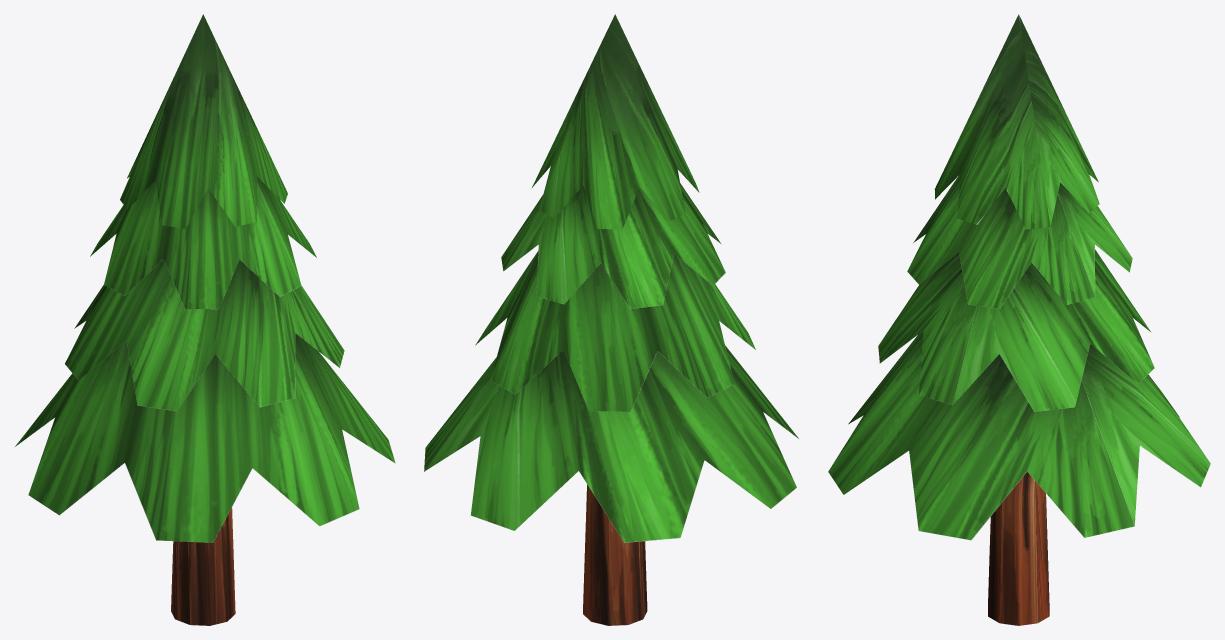
The model's file is Tree(Textured).fbx.
3 views of the same model, side by side, from view 1: azimuth 30°, elevation 25°; view 2: azimuth 150°, elevation 25°; view 3: azimuth 270°, elevation 25° (orthographic).
Visible parts, largest first — view 1: polySurface1; view 2: polySurface1; view 3: polySurface1.
Part boxes in pixels (x1=…): polySurface1: x1=15, y1=14, x2=395, y2=625; polySurface1: x1=424, y1=14, x2=798, y2=625; polySurface1: x1=828, y1=14, x2=1210, y2=625.
Size of the model in its own units: 819 by 1433 by 831.
